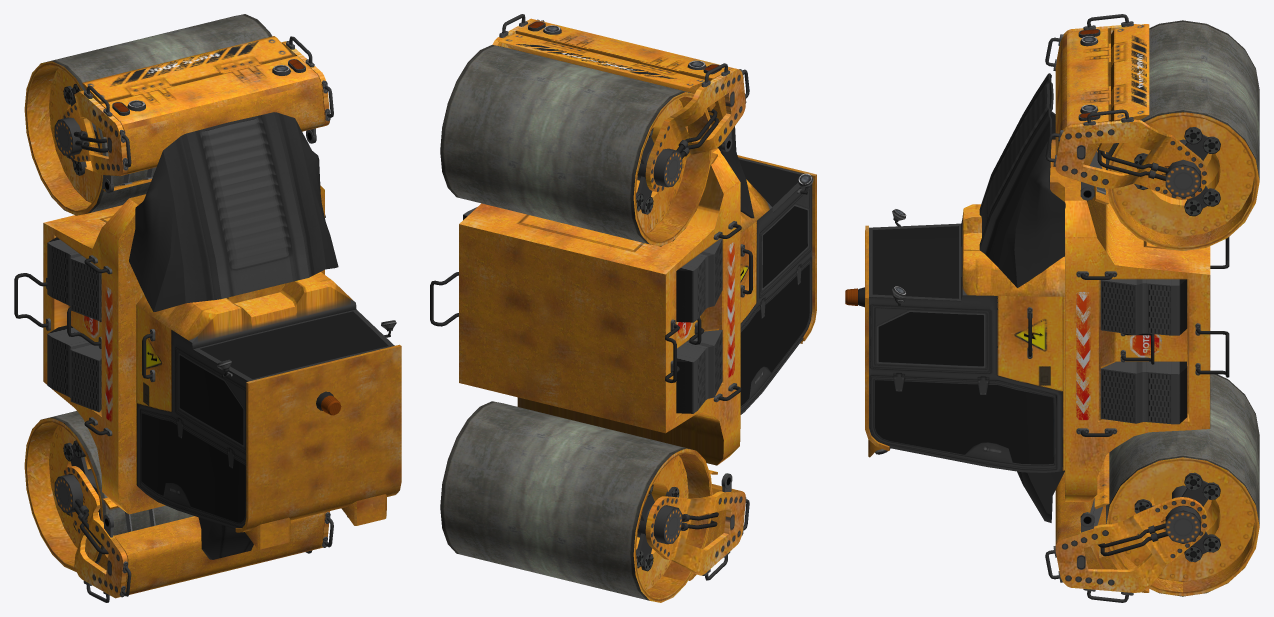
Rendered from roadroller.obj.
3 renders of one model, left to right at view 1: azimuth 30°, elevation 25°; view 2: azimuth 150°, elevation 25°; view 3: azimuth 270°, elevation 25°, orthographic. The views are drawn at different scales.
Parts seen in each view (by area): view 1: Body_1, Body_3, Wheel_B, Body_2, Wheel_F; view 2: Body_1, Wheel_B, Wheel_F, Body_3, Body_2; view 3: Body_1, Wheel_B, Wheel_F, Body_3, Body_2.
Boxes of the visible parts, x1,y1,x2,y2 form: Body_1: (14,112,401,559); Body_3: (54,36,333,192); Wheel_B: (24,14,271,215); Body_2: (54,466,333,602); Wheel_F: (24,411,194,571); Body_1: (430,126,816,465); Wheel_B: (440,45,711,246); Wheel_F: (440,401,712,602); Body_3: (492,14,749,192); Body_2: (637,470,749,580); Body_1: (845,73,1229,522); Wheel_B: (1106,20,1259,250); Wheel_F: (1106,374,1259,596); Body_3: (1045,14,1207,204); Body_2: (1045,453,1207,602).
Size of the model in its own units: 0.5405 by 1.07 by 0.8117.
Materials: 5 (4 with a texture image).
